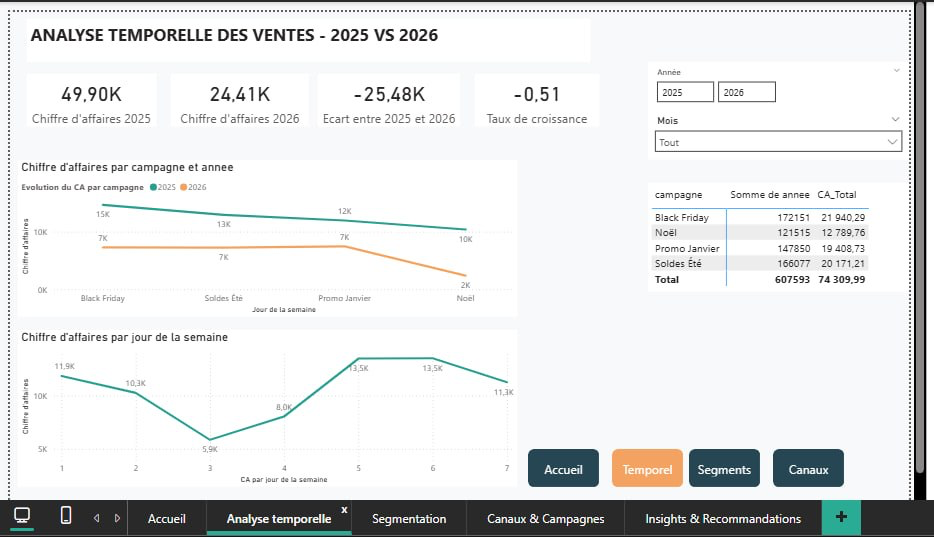

What the dashboard file says about the page in this screenshot:
{"tool":"powerbi","page":{"name":"Analyse temporelle","canvas":[1280,720],"ordinal":1},"visuals":[{"type":"shape","box":[737.6,621.6,101.4,54.4],"z":0},{"type":"shape","box":[856.7,621.6,101.4,54.4],"z":1000},{"type":"shape","box":[966.9,621.6,101.4,54.4],"z":2000},{"type":"shape","box":[1085.9,621.6,101.4,54.4],"z":3000},{"type":"slicer","fields":{"Values":["Sheet1.annee"]},"box":[908.1,70.5,371.8,70.5],"z":4000},{"type":"slicer","fields":{"Values":["Sheet1.date.Variation.Hiérarchie de dates.Mois"]},"box":[908.1,141.1,371.8,69.1],"z":5000},{"type":"lineChart","fields":{"Category":["Sheet1.Jour_Smne"],"Y":["Sheet1.CA_Total"]},"box":[11.8,452.6,711.2,223.3],"z":7000},{"type":"textbox","box":[24.2,10,801.6,61.2],"z":7001},{"type":"card","title":"CA 2026","fields":{"Values":["Sheet1.CA_2026"]},"box":[229.2,88.3,196.5,75.5],"z":7003},{"type":"card","title":"CA 2025","fields":{"Values":["Sheet1.CA_2025"]},"box":[24.2,88.3,183.7,75.5],"z":7004},{"type":"card","fields":{"Values":["Sheet1.Ecart_2526"]},"box":[438.5,88.3,202.2,75.5],"z":7005},{"type":"card","title":"Croissance ","fields":{"Values":["Sheet1.Croissance_2526"]},"box":[662.1,88.3,176.6,75.5],"z":7006},{"type":"lineChart","fields":{"Y":["Sheet1.CA_Total"],"Category":["Sheet1.campagne"],"Series":["Sheet1.annee"]},"box":[11.8,210.1,711.2,223.3],"z":7007},{"type":"pivotTable","fields":{"Rows":["Sheet1.campagne"],"Values":["Sum(Sheet1.annee)","Sheet1.CA_Total"]},"box":[908.4,243.5,371.6,155.2],"z":7008}]}

Visuals, with their boxes on the page's 1280x720 design canvas (x1, y1, x2, y2). These are canvas units, not pixel positions in the 934x537 screenshot, which may show the page scaled, cropped or inside an application window:
shape: detection(738, 622, 839, 676)
shape: detection(857, 622, 958, 676)
shape: detection(967, 622, 1068, 676)
shape: detection(1086, 622, 1187, 676)
slicer - Sheet1.annee: detection(908, 70, 1280, 141)
slicer - Sheet1.date.Variation.Hiérarchie de dates.Mois: detection(908, 141, 1280, 210)
lineChart - Sheet1.Jour_Smne x Sheet1.CA_Total: detection(12, 453, 723, 676)
textbox: detection(24, 10, 826, 71)
"CA 2026" card: detection(229, 88, 426, 164)
"CA 2025" card: detection(24, 88, 208, 164)
card - Sheet1.Ecart_2526: detection(438, 88, 641, 164)
"Croissance " card: detection(662, 88, 839, 164)
lineChart - Sheet1.CA_Total x Sheet1.campagne: detection(12, 210, 723, 433)
pivotTable - Sheet1.campagne x Sum(Sheet1.annee): detection(908, 244, 1280, 399)
